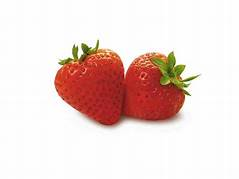Fresa: (52, 46, 128, 128), (118, 51, 188, 123)
